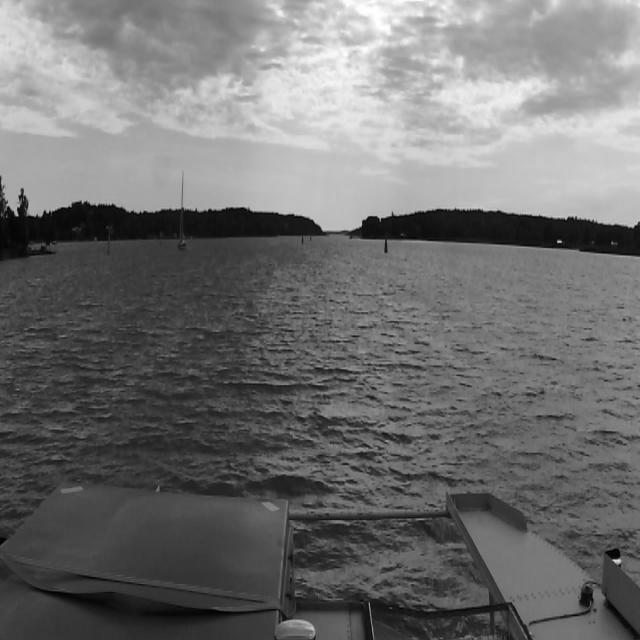buoy: (298, 227, 306, 248), (307, 224, 313, 244), (384, 235, 388, 252)
ship: (180, 170, 186, 250)
